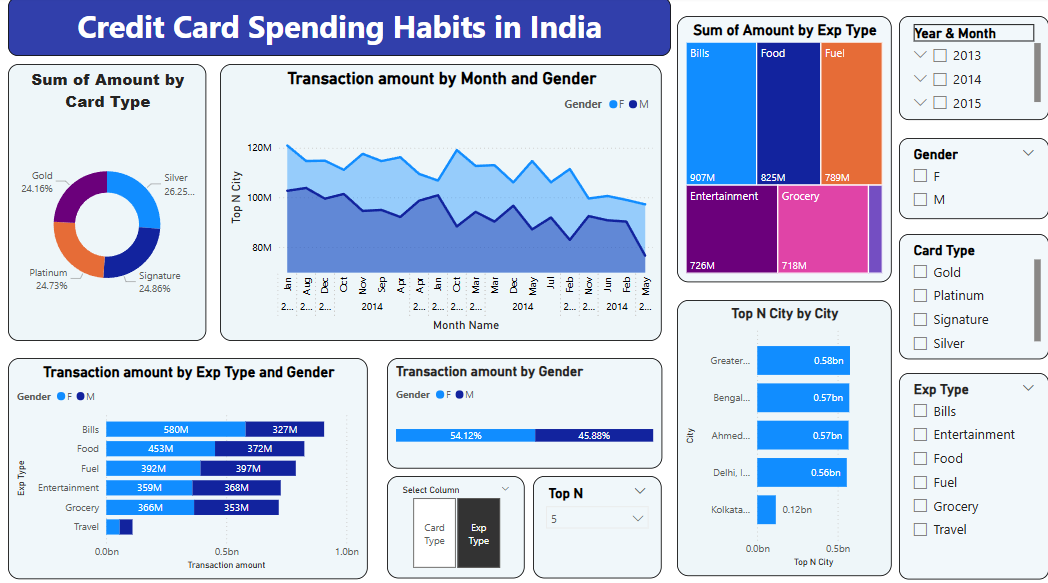

This screenshot's page, from the dashboard's own definition file:
{"tool":"powerbi","page":{"name":"Dashboard","canvas":[1280,720],"ordinal":0},"visuals":[{"type":"textbox","box":[9.6,0,809.3,71.6],"z":0},{"type":"donutChart","fields":{"Y":["Sum(Credit card transactions - India - Simple.Amount)"],"Category":["Credit card transactions - India - Simple.Card Type"]},"box":[9.8,81.8,241.6,338],"z":1000},{"type":"lineChart","title":"Transaction amount by Month and Gender","fields":{"Category":["Date_table.Year","Date_table.Month Name"],"Y":["Credit card transactions - India - Simple.Top N City"],"Series":["Credit card transactions - India - Simple.Gender"]},"box":[268.5,81.8,539.4,338],"z":2000},{"type":"treemap","fields":{"Values":["Sum(Credit card transactions - India - Simple.Amount)"],"Group":["Credit card transactions - India - Simple.Exp Type"]},"box":[825.8,23.4,261.5,324.8],"z":3000},{"type":"barChart","fields":{"Series":["Credit card transactions - India - Simple.Gender"],"Y":["Credit card transactions - India - Simple.Transaction amount"],"Category":["Credit card transactions - India - Simple.Exp Type"]},"box":[9.8,440.5,439.3,269.7],"z":4000},{"type":"hundredPercentStackedBarChart","fields":{"Y":["Credit card transactions - India - Simple.Transaction amount"],"Series":["Credit card transactions - India - Simple.Gender"]},"box":[472.1,440.4,335.8,134.9],"z":5000},{"type":"slicer","fields":{"Values":["Select Column.Select Column"]},"box":[472.1,584.9,167.9,125.2],"z":6000},{"type":"slicer","fields":{"Values":["Top N.Value"]},"box":[651,584.9,156.9,125.2],"z":7000},{"type":"barChart","fields":{"Category":["Credit card transactions - India - Simple.City"],"Y":["Credit card transactions - India - Simple.Top N City"]},"box":[825.8,370.2,261.5,337.2],"z":8000},{"type":"slicer","fields":{"Values":["Date_table.Year","Date_table.Month Name"]},"box":[1096.9,23.4,183.1,126.6],"z":9000},{"type":"slicer","fields":{"Values":["Credit card transactions - India - Simple.Gender"]},"box":[1096.9,172,183.1,99.1],"z":10000},{"type":"slicer","fields":{"Values":["Credit card transactions - India - Simple.Card Type"]},"box":[1096.9,289,183.1,152.8],"z":11000},{"type":"slicer","fields":{"Values":["Credit card transactions - India - Simple.Exp Type"]},"box":[1096.9,458.3,183.1,251.9],"z":12000}]}

Visuals, with their boxes in screenshot pixels (x1, y1, x2, y2), scaled from the page's 1280x720 canvas onto the 1048x583 screenshot:
textbox: 8, 0, 670, 58
donutChart - Sum(Credit card transactions - India - Simple.Amount) x Credit card transactions - India - Simple.Card Type: 8, 66, 206, 340
"Transaction amount by Month and Gender" lineChart: 220, 66, 661, 340
treemap - Sum(Credit card transactions - India - Simple.Amount) x Credit card transactions - India - Simple.Exp Type: 676, 19, 890, 282
barChart - Credit card transactions - India - Simple.Gender x Credit card transactions - India - Simple.Transaction amount: 8, 357, 368, 575
hundredPercentStackedBarChart - Credit card transactions - India - Simple.Transaction amount x Credit card transactions - India - Simple.Gender: 387, 357, 661, 466
slicer - Select Column.Select Column: 387, 474, 524, 575
slicer - Top N.Value: 533, 474, 661, 575
barChart - Credit card transactions - India - Simple.City x Credit card transactions - India - Simple.Top N City: 676, 300, 890, 573
slicer - Date_table.Year x Date_table.Month Name: 898, 19, 1047, 121
slicer - Credit card transactions - India - Simple.Gender: 898, 139, 1047, 220
slicer - Credit card transactions - India - Simple.Card Type: 898, 234, 1047, 358
slicer - Credit card transactions - India - Simple.Exp Type: 898, 371, 1047, 575
